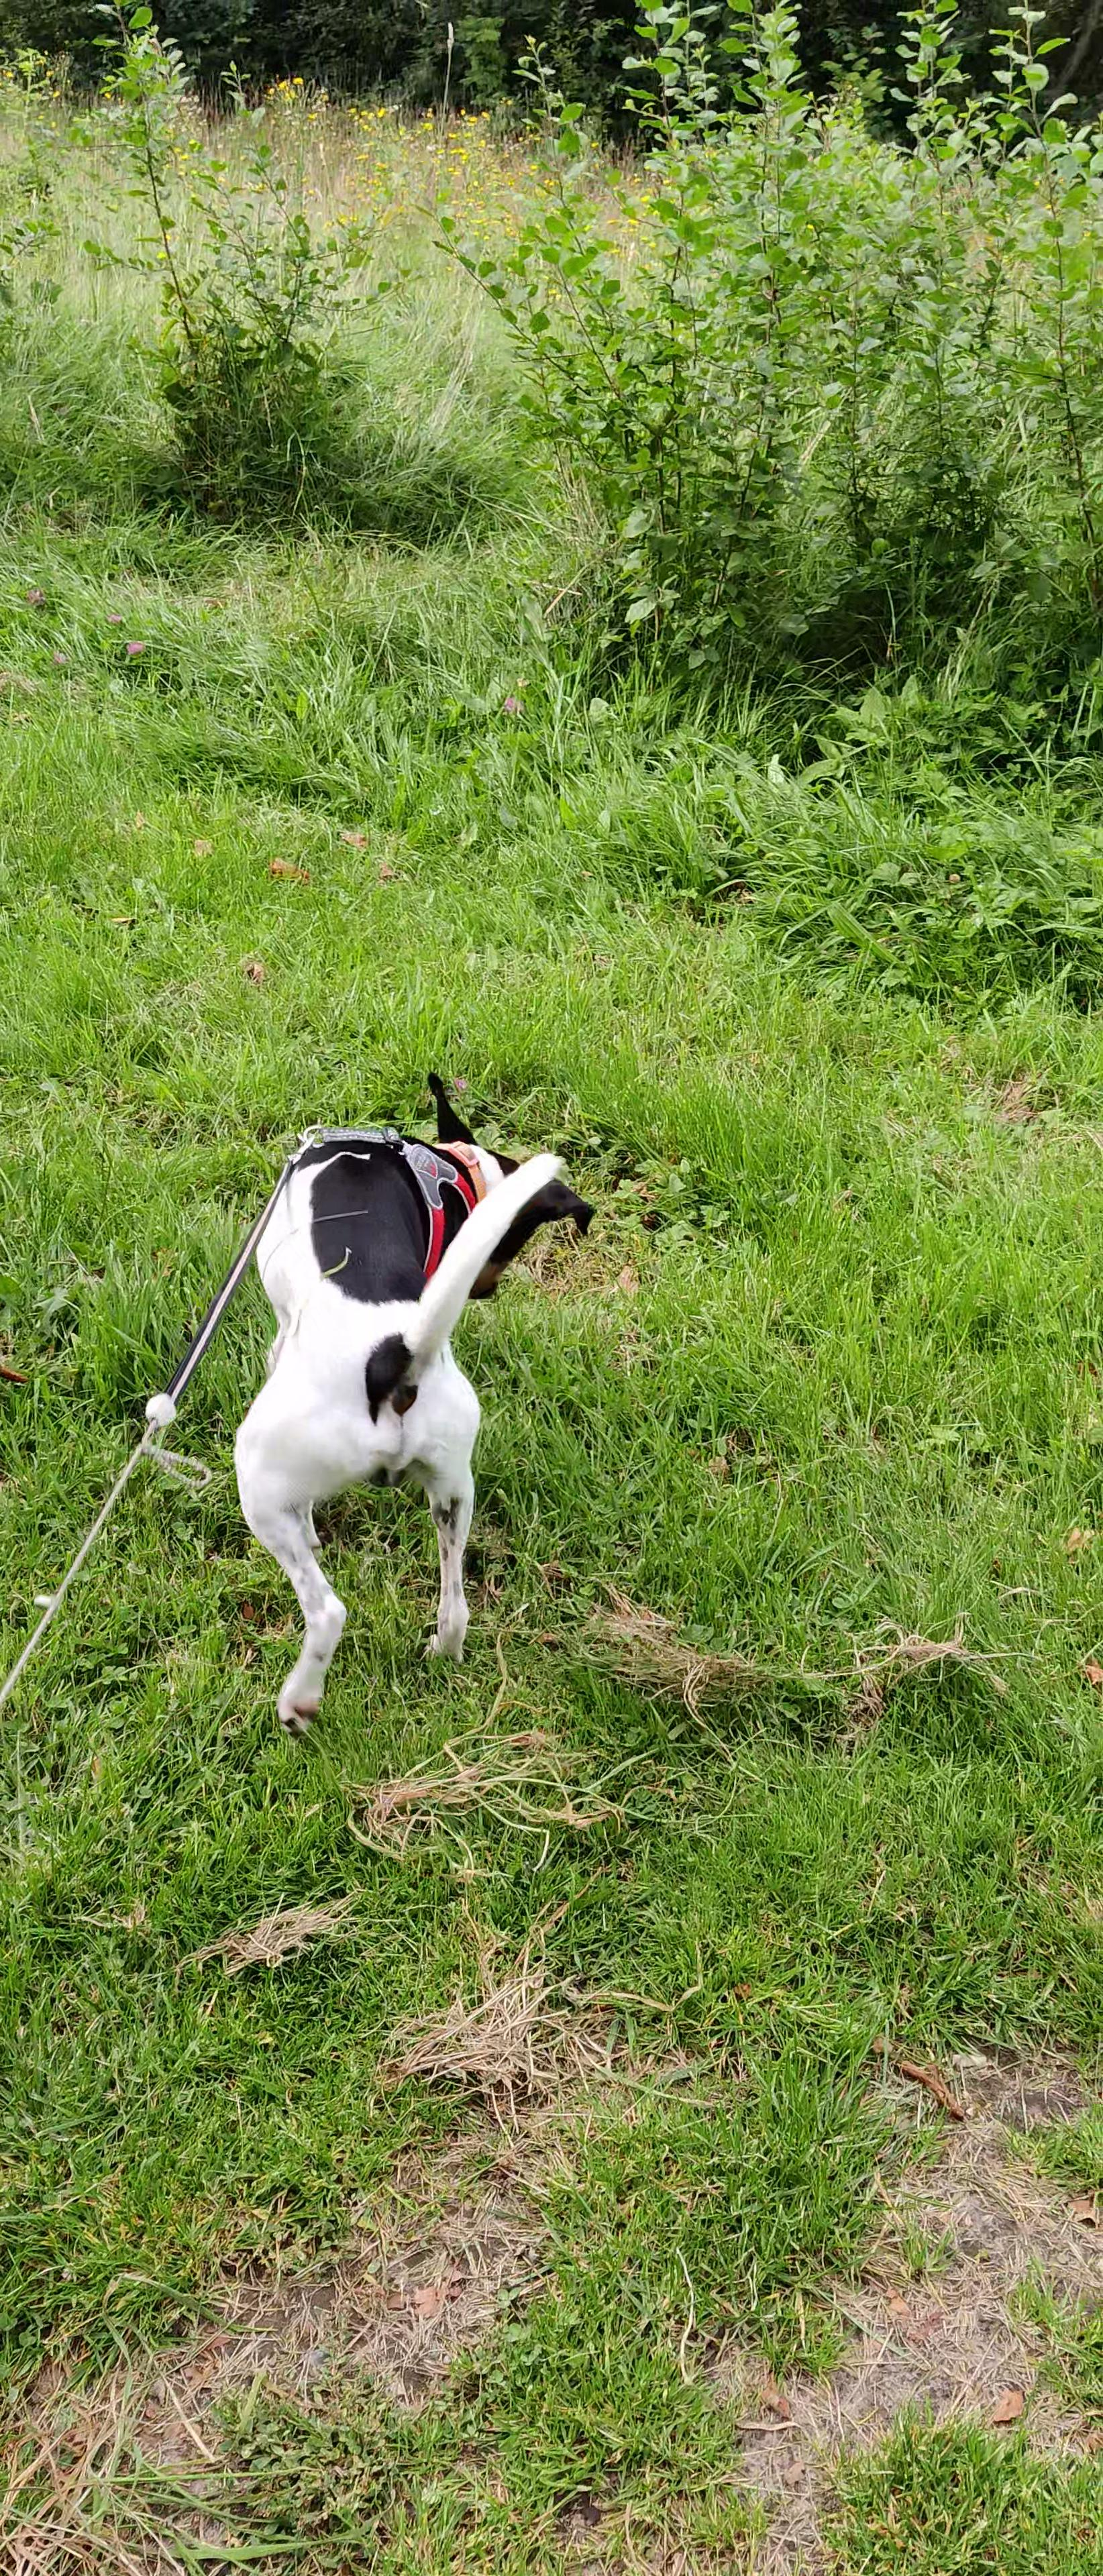Dog: (225, 1065, 600, 1748)
